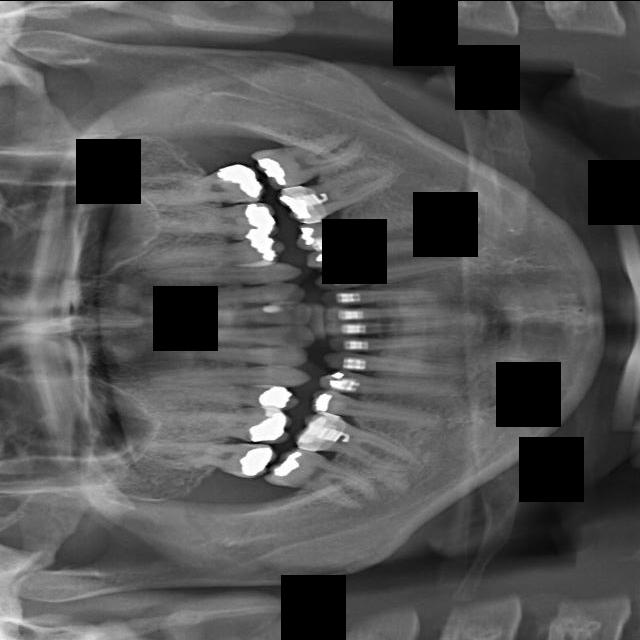AGS Medikal Implant: (169, 281, 301, 310)
AMerOss Implant: (148, 263, 297, 286)
Amalgam filling: (151, 237, 273, 267)
Bicon Implant: (154, 200, 273, 241)
BioHorizons Implant: (150, 160, 263, 203)
Blue Sky Bio Implant: (257, 122, 369, 190)
Camlog Implant: (358, 189, 359, 189)
Caries: (147, 439, 271, 475)
Composite filling: (305, 206, 436, 248)
Cowellmedi Implant: (310, 228, 437, 270)
Crown: (315, 259, 444, 288)
DENTSPLY Implant: (333, 283, 439, 302)
Dentatus Implant: (329, 304, 473, 319)
Dentis Implant: (328, 318, 482, 334)
Dentium Implant: (331, 334, 463, 350)
Euroteknika Implant: (324, 346, 458, 377)
Filling: (323, 368, 460, 399)
Frontier Implant: (316, 388, 444, 434)
Hiossen Implant: (163, 409, 285, 437)
Implant: (267, 439, 384, 517)
Implant Direct: (295, 405, 436, 482)
Mandible: (174, 375, 295, 411)
Maxilla: (166, 365, 307, 385)
Megagen Implant: (182, 340, 304, 368)
Neodent Implant: (161, 322, 317, 348)
Neoss Implant: (175, 302, 313, 323)
